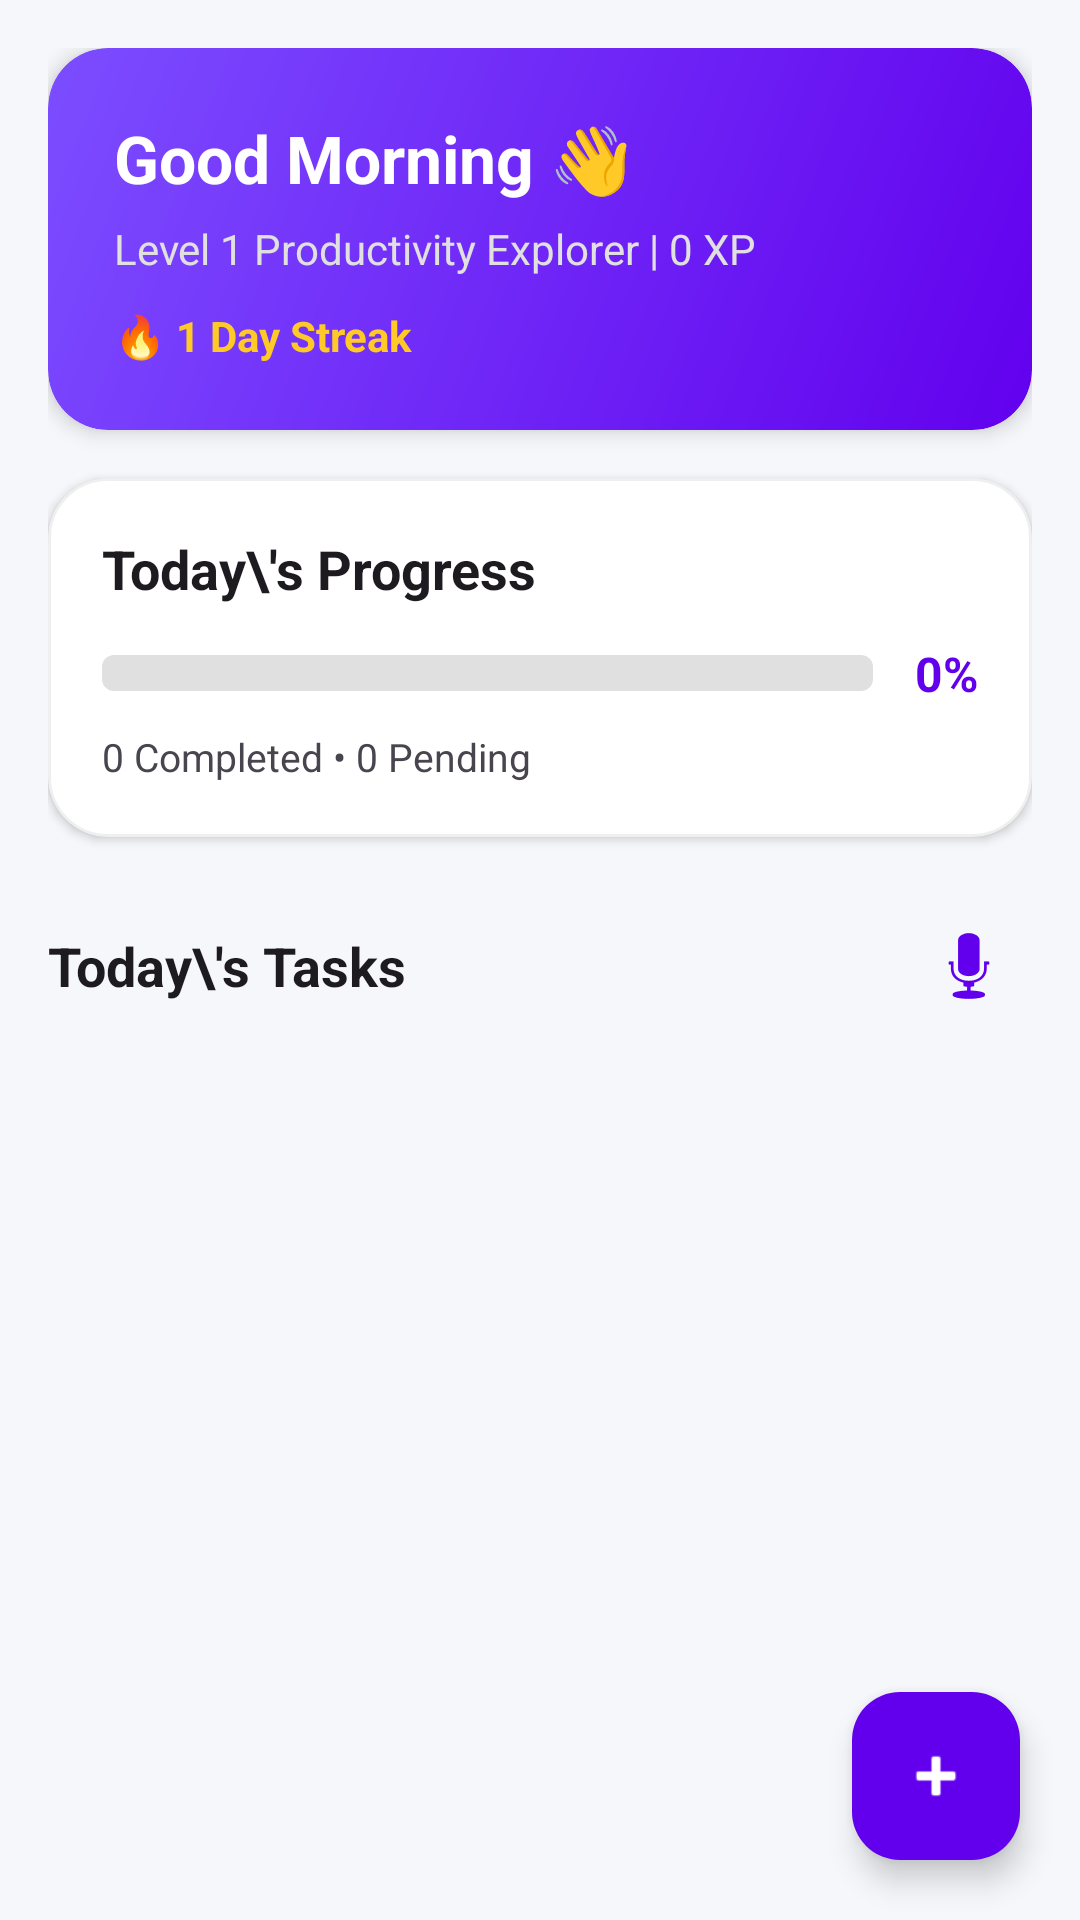

Named icons in this screenshot (1080px x 1920px) and their centers, point (x, y):
Add Task: point (936, 1776)
Voice Task: point (969, 966)
